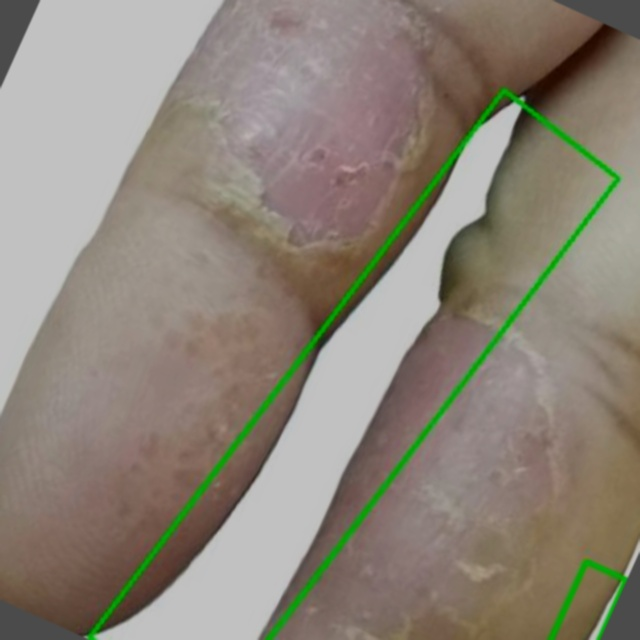Eczema: (89, 92, 618, 639)
